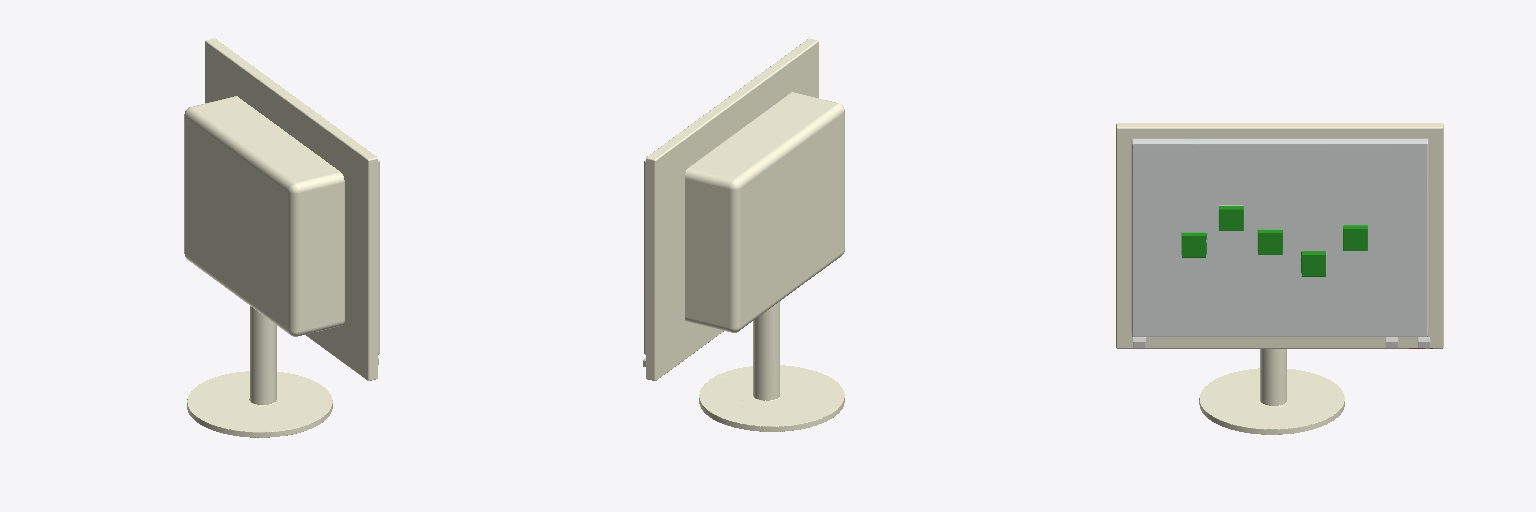
3 renders of one model, left to right at view 1: azimuth 30°, elevation 25°; view 2: azimuth 150°, elevation 25°; view 3: azimuth 270°, elevation 25°, orthographic.
Visible parts, largest first — view 1: 283473_23_05_27_07_39_30_0; view 2: 283473_23_05_27_07_39_30_0; view 3: 283473_23_05_27_07_39_30_0.
Part boxes in pixels (bbox=[...]): 283473_23_05_27_07_39_30_0: bbox=[184, 38, 379, 437]; 283473_23_05_27_07_39_30_0: bbox=[643, 38, 844, 431]; 283473_23_05_27_07_39_30_0: bbox=[1116, 123, 1443, 434].
Size of the model in its own units: 2.38 by 5.35 by 5.35.
Materials: 1 (1 with a texture image).